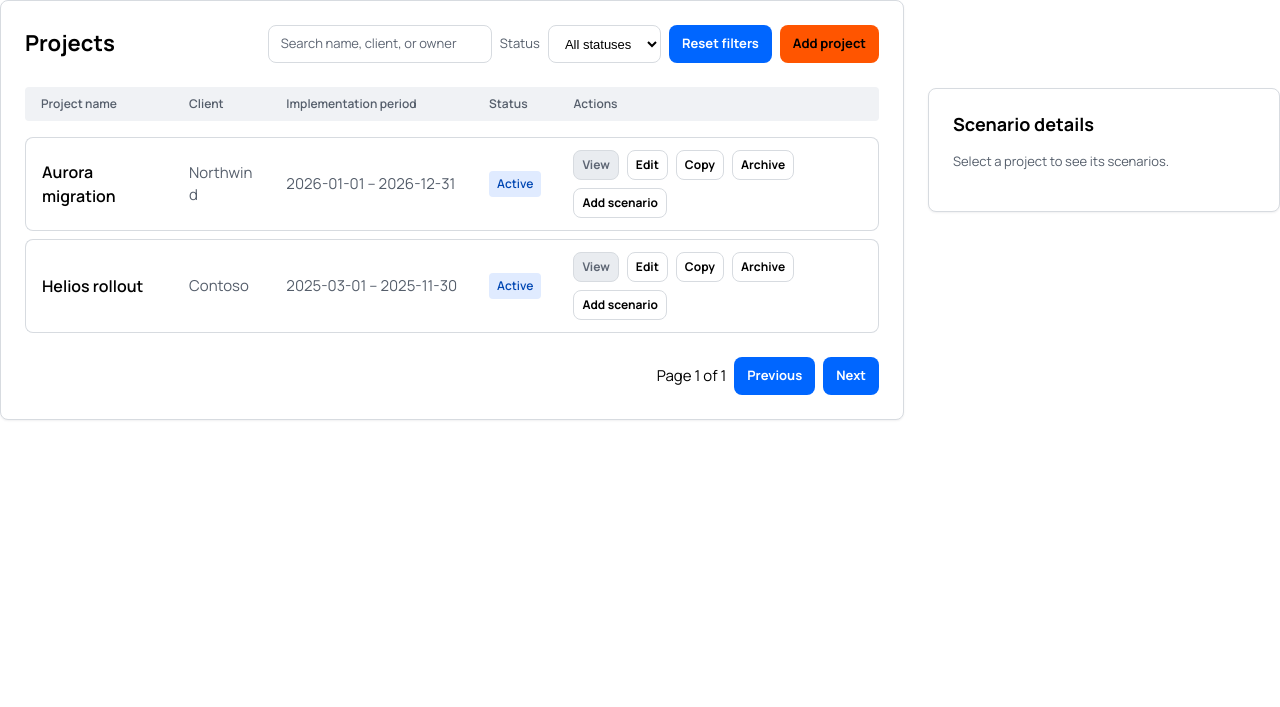
Test: K-04 — a refused read of the commercial terms stays inside its section › says 404 in words of its own — not 'no rule yet', not 'no permission' — and offers no write
The width and height of the screenshot is (1280, 707).
Click the button "Aurora migration": (100, 184) [42, 160, 157, 208]
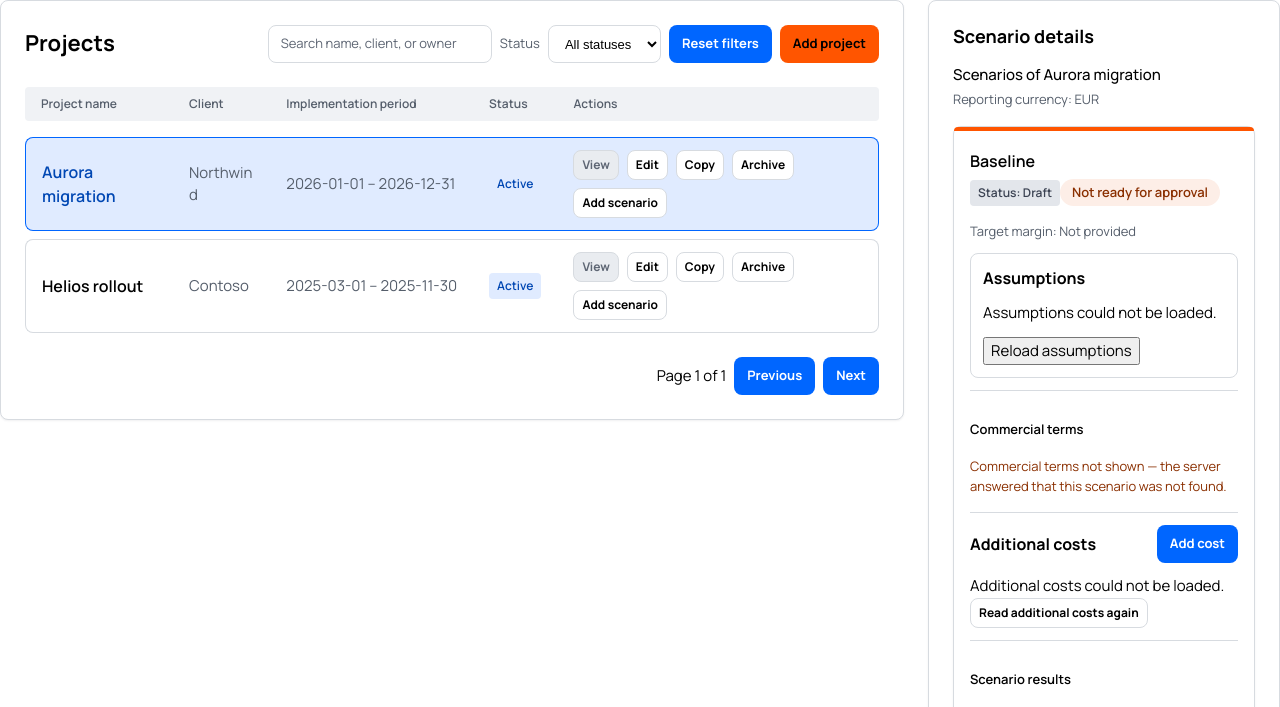
Expected: the text "Commercial terms not shown — the server answered that this scenario was not found." is shown, [970, 457, 1227, 495]
Expected: the text "Status: Draft" is shown, [970, 180, 1060, 206]
